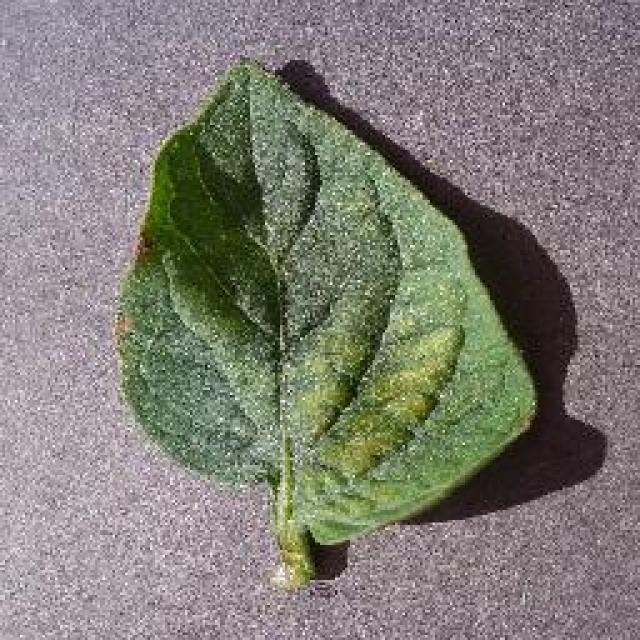Tomato spider mites leaf: (115, 53, 537, 547)
